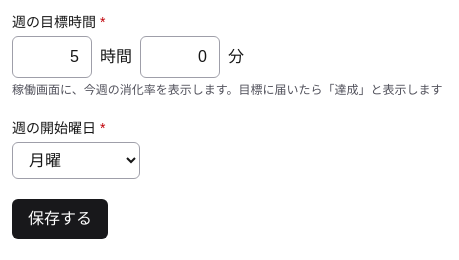
Test: SettingsForm の画面の検証 › 目標が0時間なら送信せず、目標時間のエラーを出し、直すと消える
The width and height of the screenshot is (459, 260).
Replace the text in the field labelled "時間" with "0" at {"x": 52, "y": 57}, box top-left (12, 36), bottom-right (92, 78)
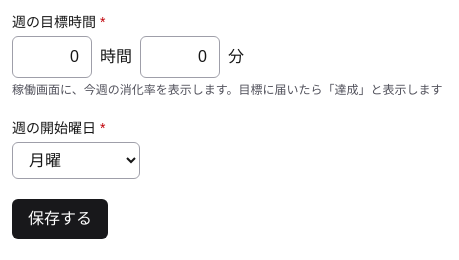
Click the button "保存する".
click(60, 219)  # box top-left (12, 199), bottom-right (108, 239)
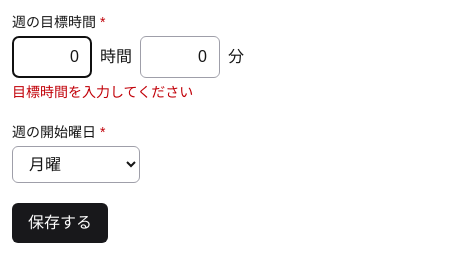
Now the text "目標時間を入力してください" is shown, box top-left (12, 84), bottom-right (193, 100)
Replace the text in the field labelled "時間" with "3" at {"x": 52, "y": 57}, box top-left (12, 36), bottom-right (92, 78)
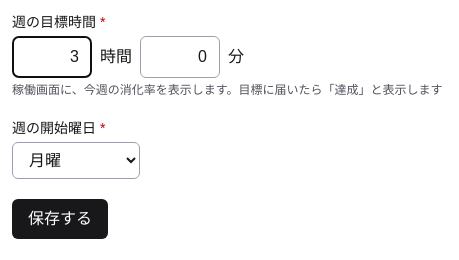
Now the text "目標時間を入力してください" is gone
